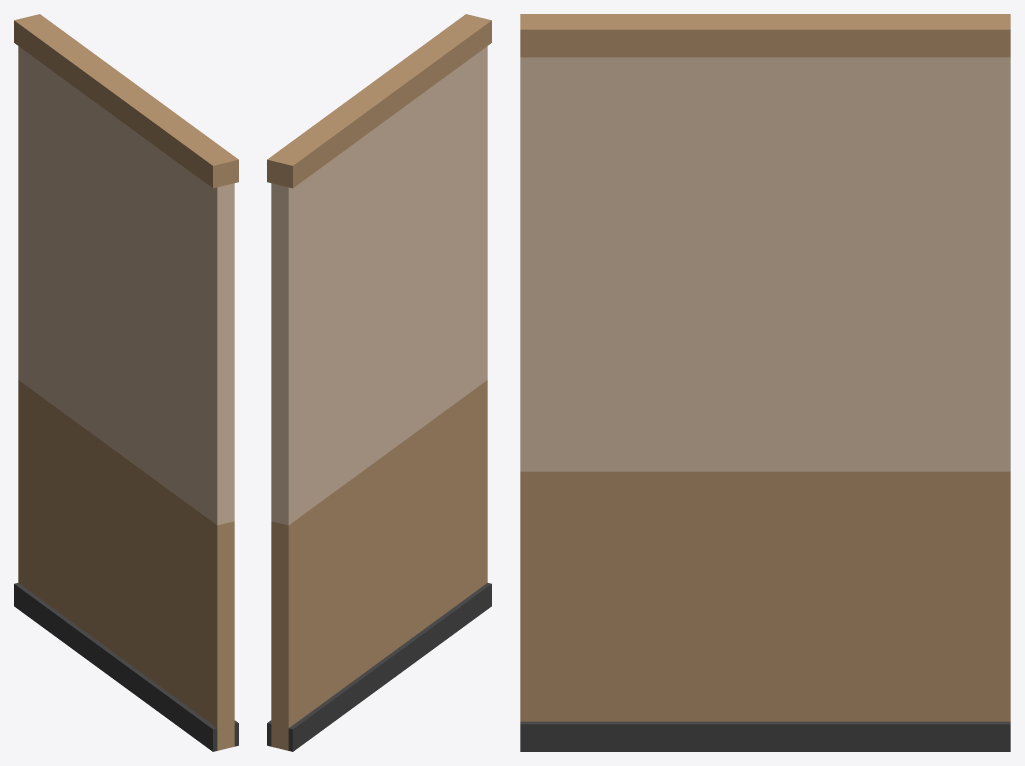
Rendered from wall_02_M.dae.
The picture shows the model from 3 angles, left to right: view 1: azimuth 30°, elevation 25°; view 2: azimuth 150°, elevation 25°; view 3: azimuth 270°, elevation 25°; orthographic projection. The views are drawn at different scales.
Parts seen in each view (by area): view 1: Untitled; view 2: Untitled; view 3: Untitled.
Part boxes in pixels (x1,y1,x2,y2): Untitled: (14, 14, 238, 751); Untitled: (267, 14, 491, 751); Untitled: (520, 14, 1010, 751).
Size of the model in its own units: 0.18 by 2.4 by 3.9.
Materials: 1 (1 with a texture image).
